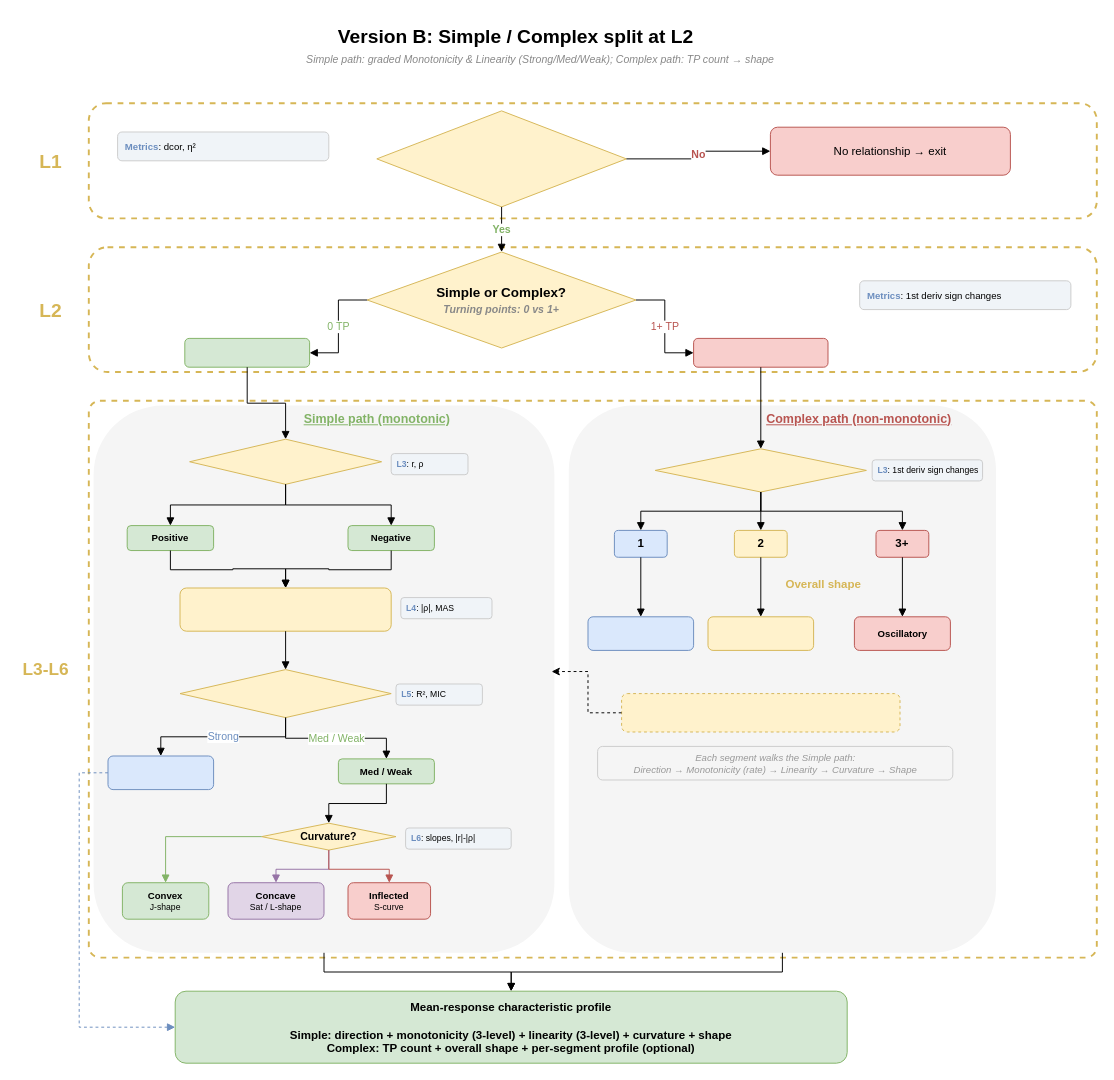
Some shapes in this 1114 by 1080 pixel diagram are drawn without their labels. The shapes that lost their labels are listed below. From the top down, each one's box as (x1, y1, x2, y2) in pixels, then its label:
(376, 110, 626, 207): Has relationship? Binary: Yes / No
(184, 337, 310, 367): Simple (0 TP)
(693, 337, 828, 367): Complex (1+ TP)
(189, 438, 382, 484): Direction? Pos / Neg
(654, 448, 866, 492): Turning points? Count: 1 / 2 / 3+
(179, 587, 391, 631): Monotonicity Rate: Strong / Med / Weak
(587, 616, 694, 650): U / Inverted-U
(707, 616, 814, 650): Cubic / N-shape
(179, 669, 391, 718): Linearity? Strong / Med / Weak
(621, 693, 900, 732): Per-segment characterization (Local analysis)
(107, 755, 214, 790): Strong Shape = Line
